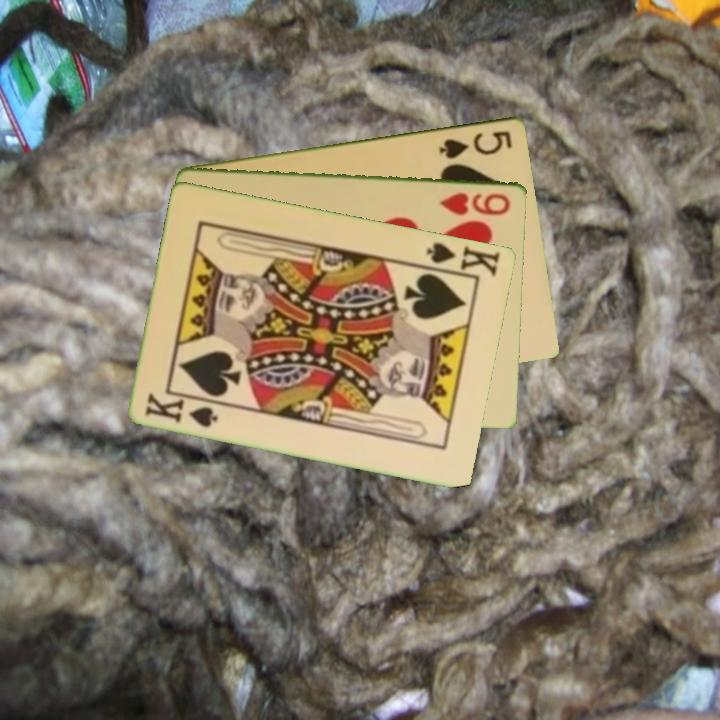5s: (436, 126, 516, 161)
9h: (436, 189, 513, 218)
Ks: (419, 238, 504, 280), (142, 389, 222, 430)
